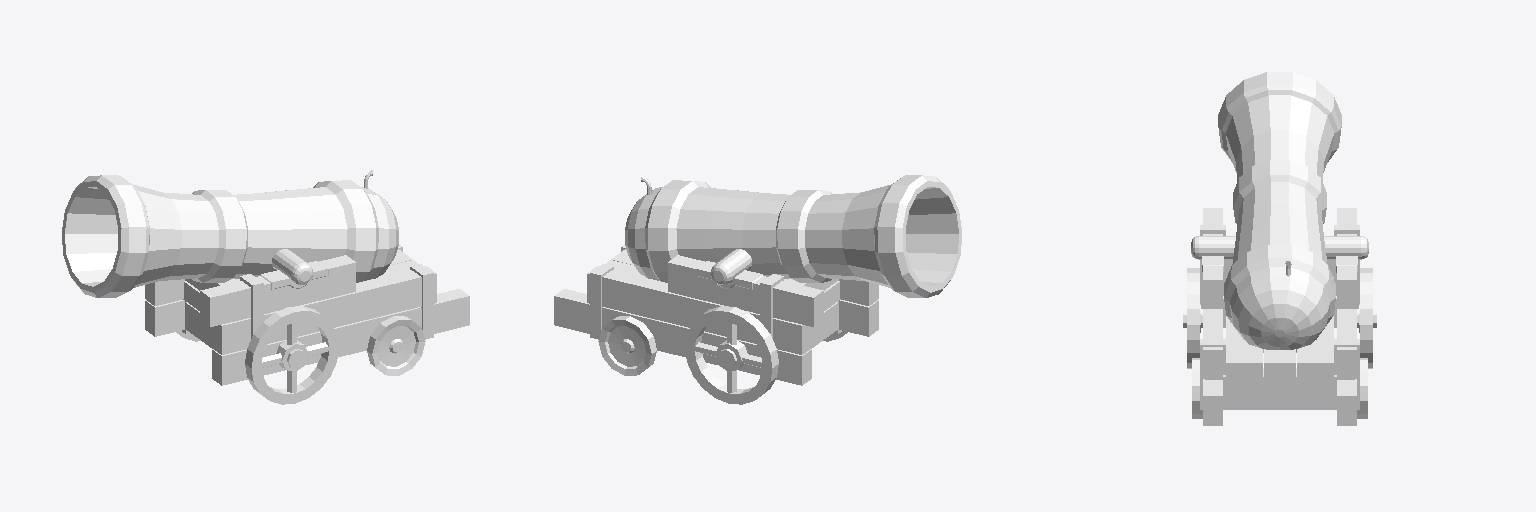
Rendered from Cannon.obj.
3 renders of one model, left to right at view 1: azimuth 30°, elevation 25°; view 2: azimuth 150°, elevation 25°; view 3: azimuth 270°, elevation 25°, orthographic.
Parts seen in each view (by area): view 1: pCylinder1, polySurface3, polySurface4, polySurface12, polySurface17, polySurface21, polySurface16, pCylinder2, polySurface14, polySurface19, pCube7, polySurface13; view 2: pCylinder1, polySurface3, polySurface4, polySurface12, polySurface17, polySurface21, polySurface16, pCylinder2, polySurface14, polySurface19, pCube7, polySurface13; view 3: pCylinder1, pCube9, polySurface13, polySurface12, polySurface3, polySurface17, pCylinder2, polySurface4, polySurface21, pCube1, polySurface16, polySurface14.
Boxes of the visible parts, <box> form: pCylinder1: <box>62,175,398,297</box>; polySurface3: <box>145,266,436,354</box>; polySurface4: <box>145,245,469,385</box>; polySurface12: <box>200,255,355,326</box>; polySurface17: <box>176,306,338,404</box>; polySurface21: <box>367,316,425,375</box>; polySurface16: <box>410,264,433,339</box>; pCylinder2: <box>272,249,312,284</box>; polySurface14: <box>182,274,263,377</box>; polySurface19: <box>276,340,308,371</box>; pCube7: <box>185,302,212,348</box>; polySurface13: <box>184,260,417,310</box>; pCylinder1: <box>625,175,961,297</box>; polySurface3: <box>587,266,878,354</box>; polySurface4: <box>554,245,878,385</box>; polySurface12: <box>668,255,823,326</box>; polySurface17: <box>685,306,847,404</box>; polySurface21: <box>598,316,656,375</box>; polySurface16: <box>590,264,613,339</box>; pCylinder2: <box>711,249,751,284</box>; polySurface14: <box>760,274,841,377</box>; polySurface19: <box>715,340,747,371</box>; pCube7: <box>811,302,838,348</box>; polySurface13: <box>606,260,839,310</box>; pCylinder1: <box>1218,72,1341,352</box>; pCube9: <box>1205,368,1354,409</box>; polySurface13: <box>1226,277,1333,380</box>; polySurface12: <box>1202,208,1357,308</box>; polySurface3: <box>1203,309,1356,378</box>; polySurface17: <box>1187,268,1372,368</box>; pCylinder2: <box>1191,236,1368,259</box>; polySurface4: <box>1203,379,1356,425</box>; polySurface21: <box>1192,358,1367,418</box>; pCube1: <box>1264,349,1295,380</box>; polySurface16: <box>1200,339,1359,409</box>; polySurface14: <box>1200,225,1359,327</box>.
Size of the model in its own units: 0.0799 by 0.0488 by 0.0382.